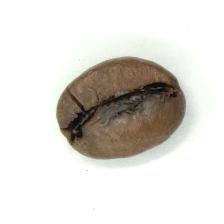NG: (86, 76, 165, 137)
